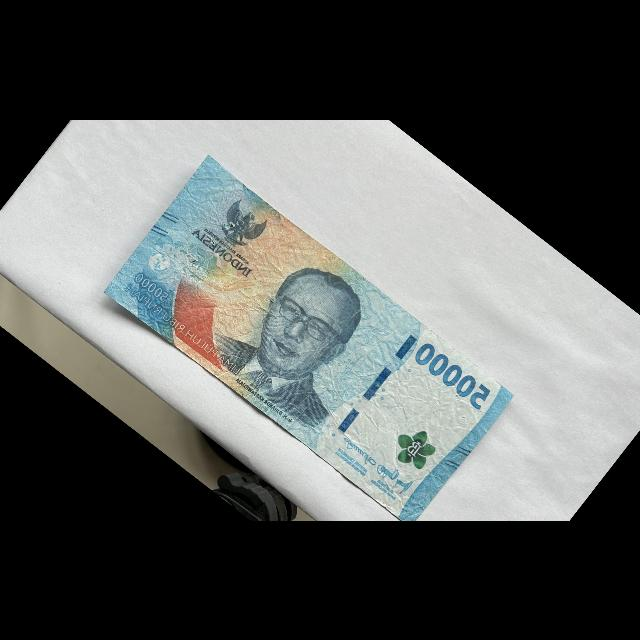Palsu-50k: (96, 150, 518, 535)
Tinta-Palsu-50k: (386, 418, 442, 475)
